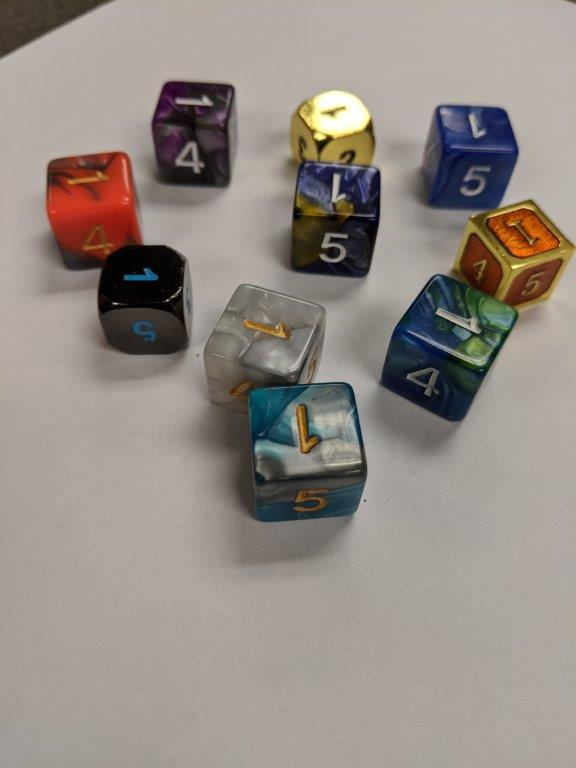d6-1: (379, 272, 520, 423), (245, 382, 366, 525), (456, 198, 576, 312), (202, 280, 326, 390), (42, 149, 144, 272), (288, 161, 383, 282), (95, 244, 191, 356), (424, 105, 519, 208), (152, 78, 238, 184), (288, 87, 381, 170)
